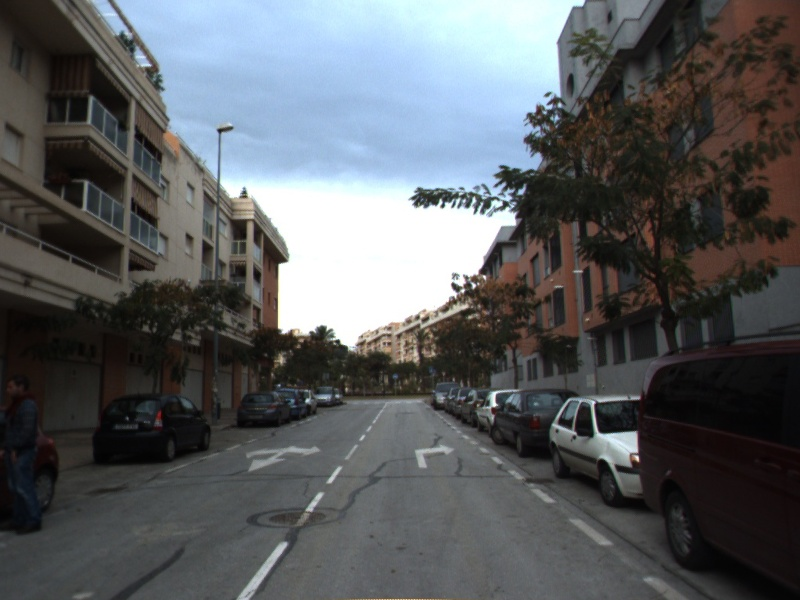RIGHT: (413, 442, 458, 470)
